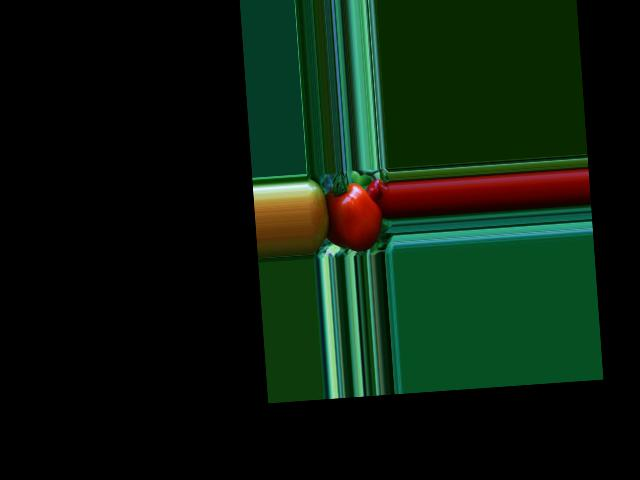tomato: (325, 181, 384, 253)
